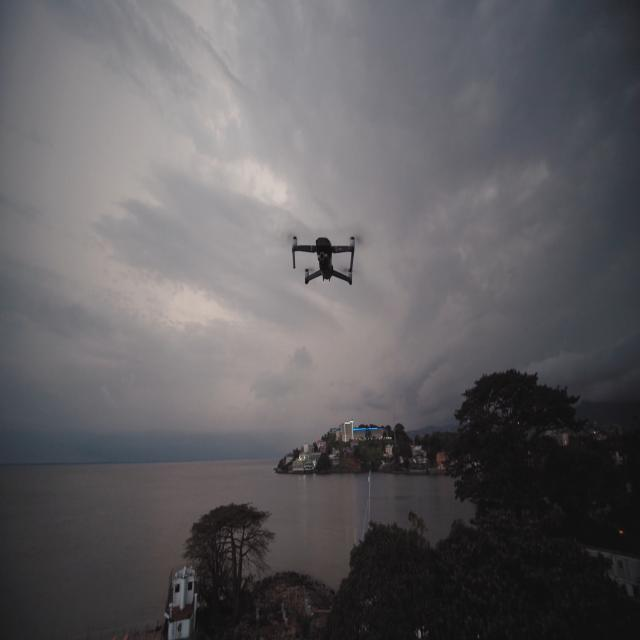drone: (291, 234, 355, 286)
